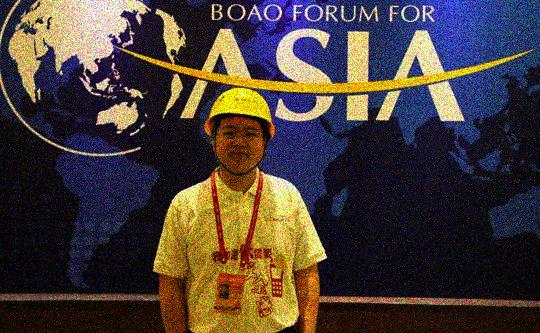helmet: (202, 87, 276, 172)
